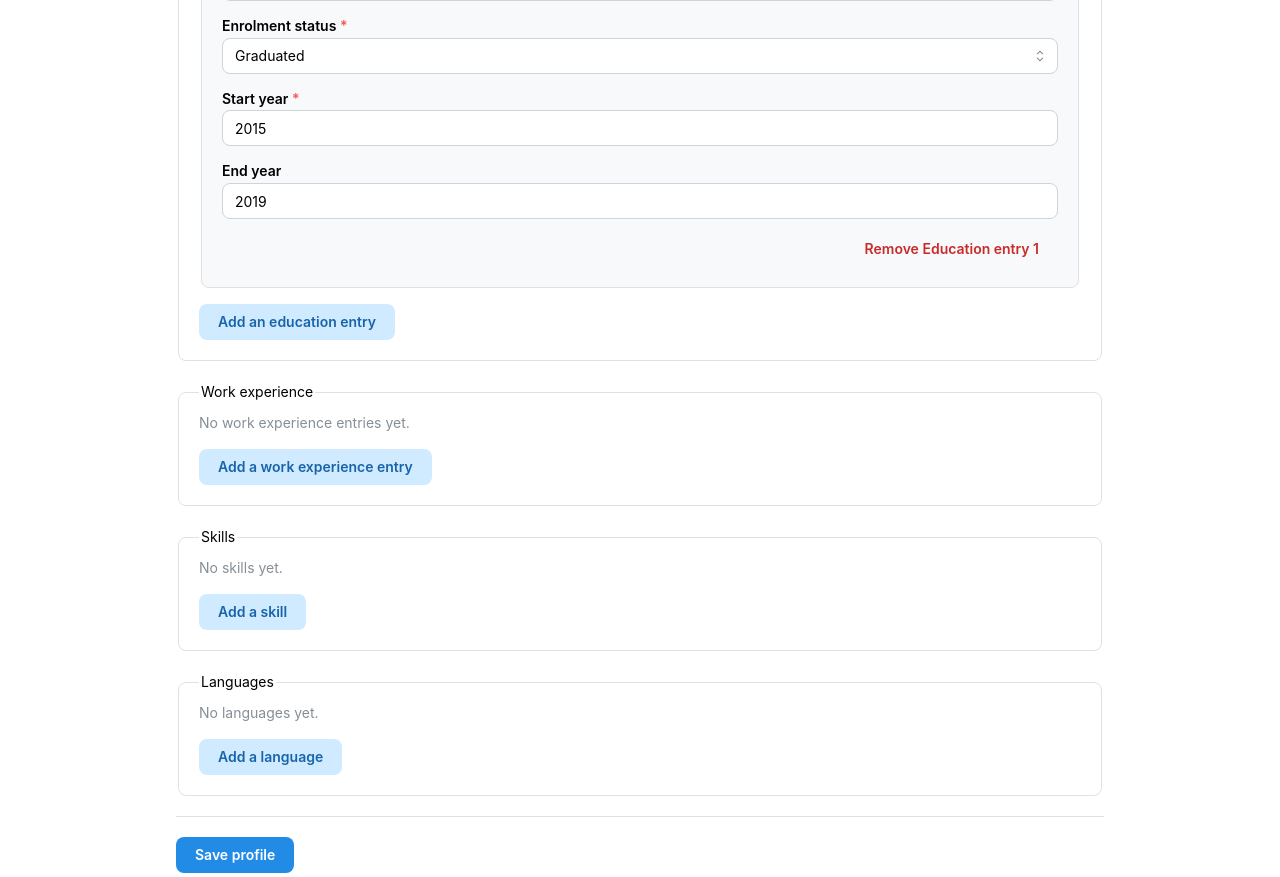
Test: the completeness surface (Req 9 AC9, AC10, AC13) › renders the confirmation once a save returns 200 with Complete
(page scrolled)
Click the button with test id "profile-save". click: (235, 855)
box: [176, 837, 294, 873]
(page scrolled)
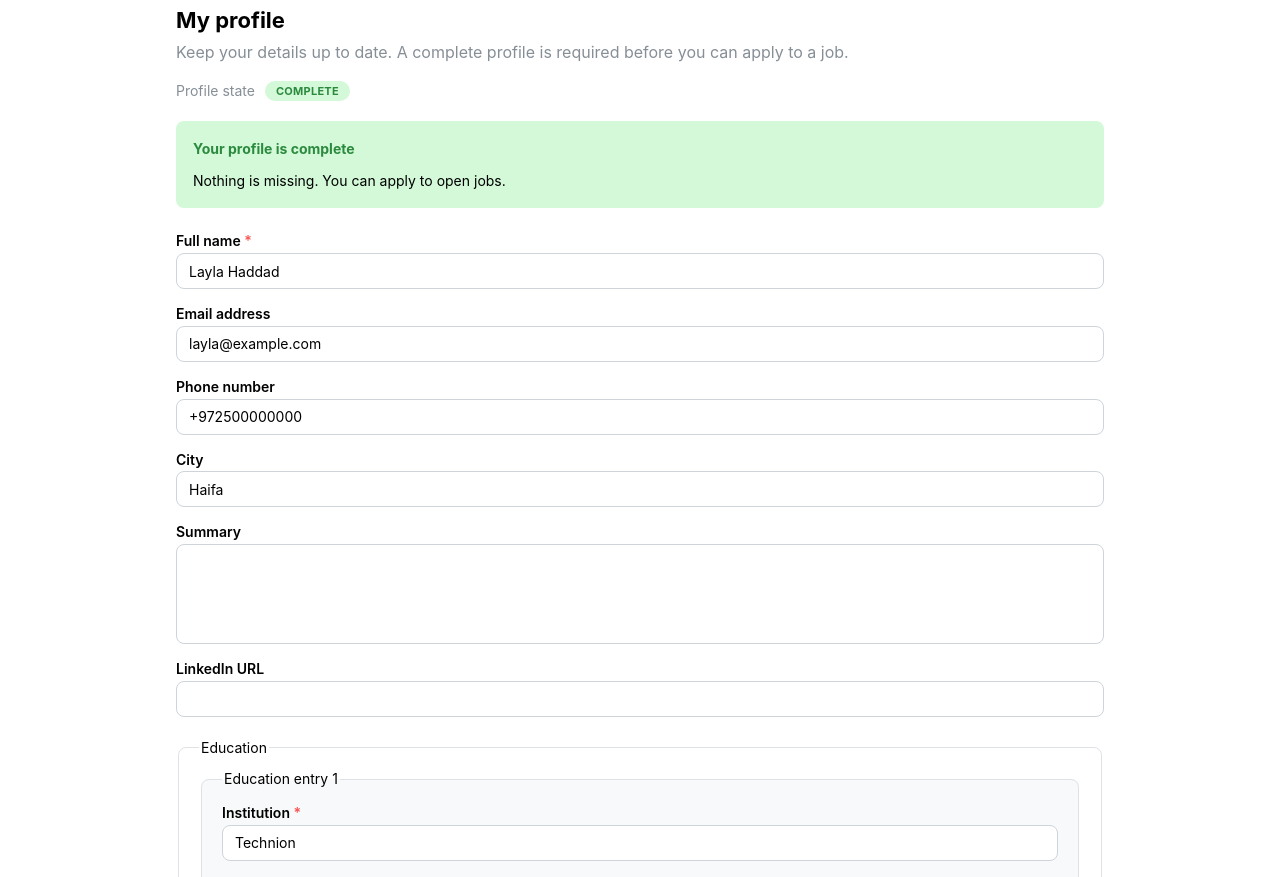
Check: the message "Your profile is complete Nothing is missing. You can apply to open jobs." is shown, box [176, 121, 1104, 208]
